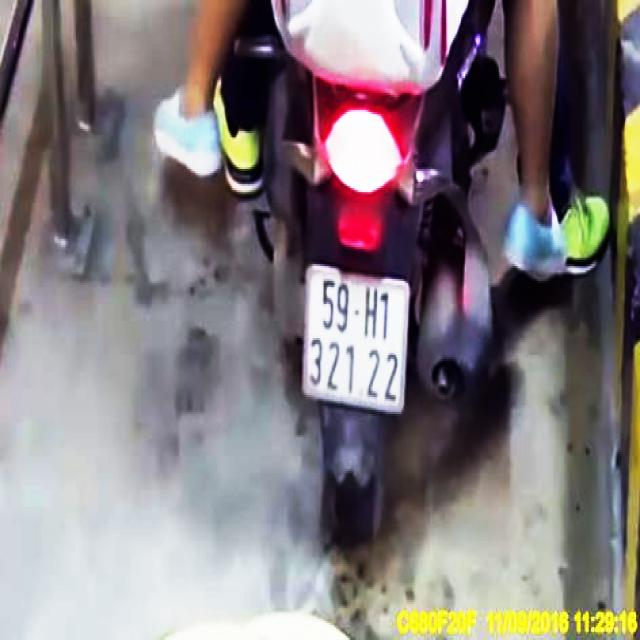license_plate: (302, 266, 413, 420)
